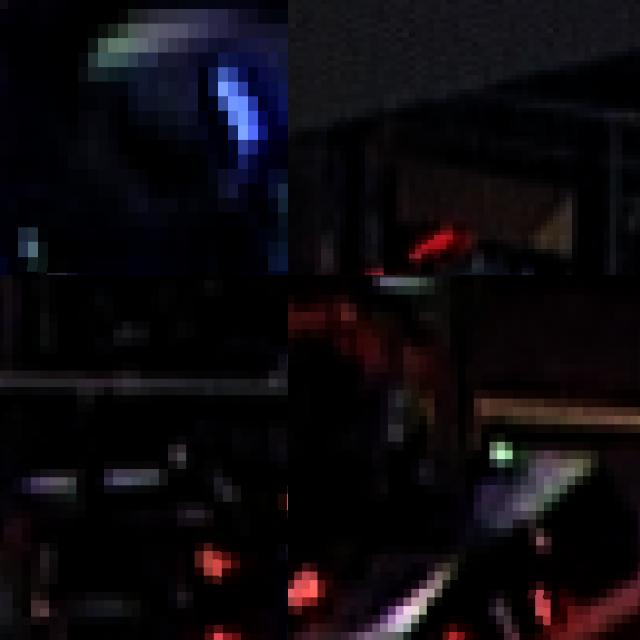R1: (186, 518, 288, 608), (442, 571, 559, 640), (288, 536, 333, 623)
